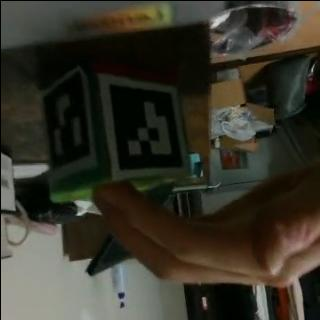armor: (99, 72, 187, 182), (39, 70, 94, 179)
robot: (37, 66, 189, 202)
